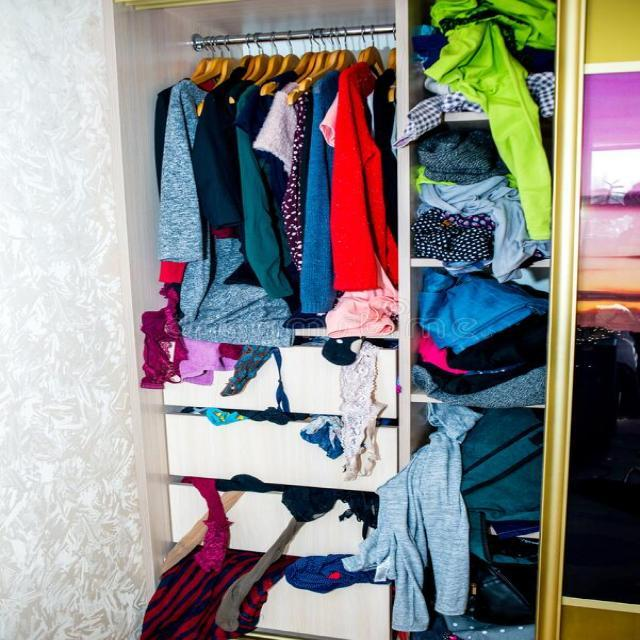clothes: (183, 42, 534, 619)
